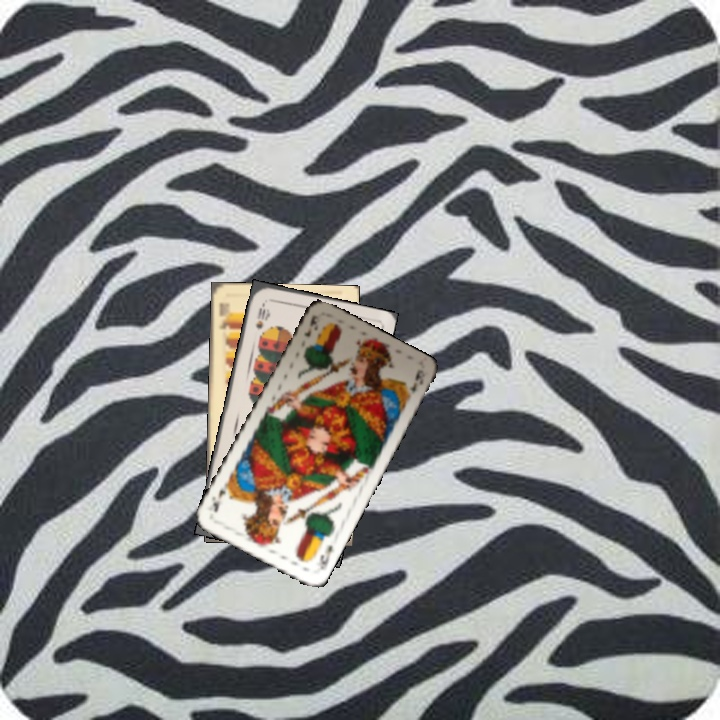E10: (215, 299, 233, 331)
EK: (311, 541, 336, 573), (300, 311, 321, 339)
S10: (252, 299, 270, 332)
